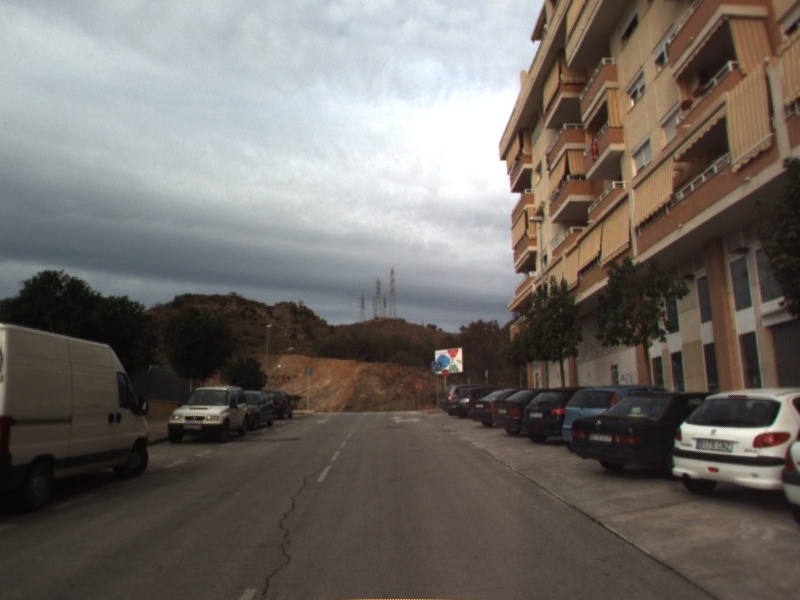STRAIGHT_RIGHT: (388, 413, 422, 425)
